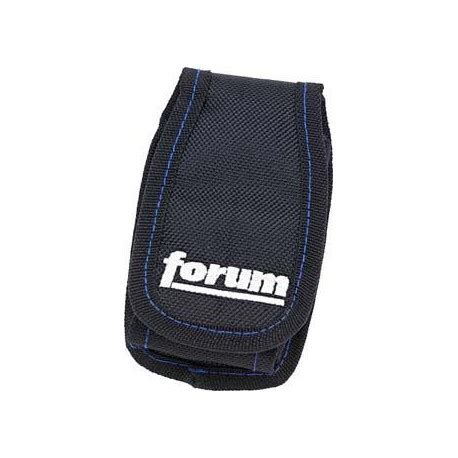nylon: (125, 67, 333, 391)
